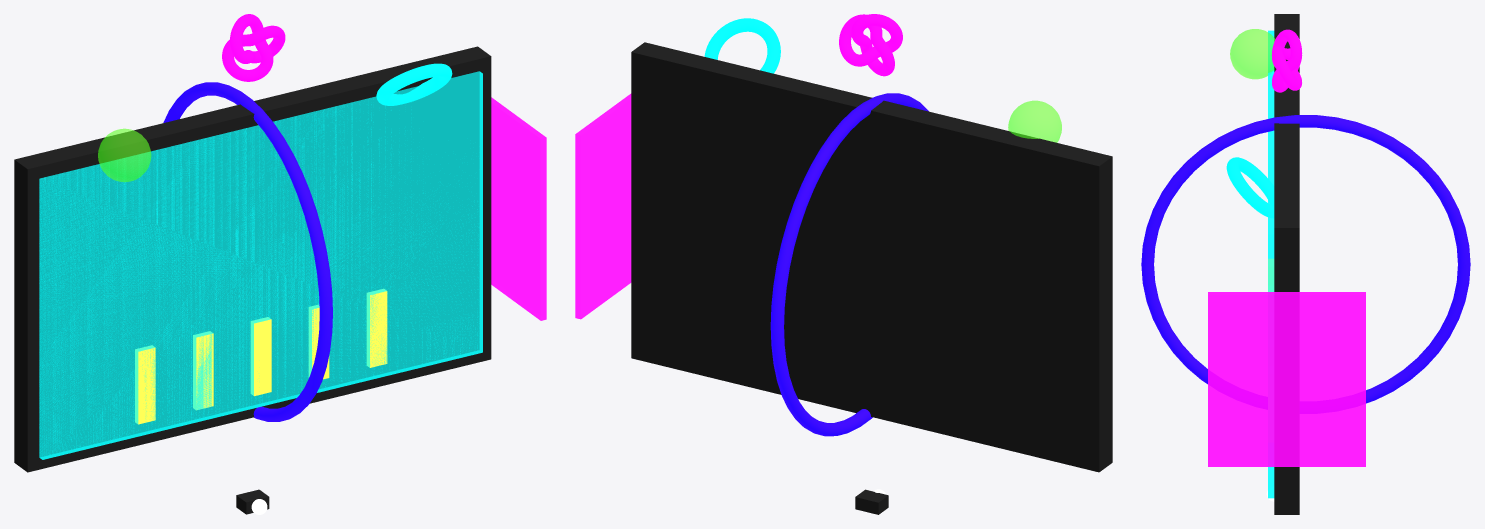
File: ads.glb
3 views of the same model, side by side, from view 1: azimuth 30°, elevation 25°; view 2: azimuth 150°, elevation 25°; view 3: azimuth 270°, elevation 25° (orthographic). The views are drawn at different scales.
Bounding box in the file's own units: 8.35 × 8.13 × 5.2.
